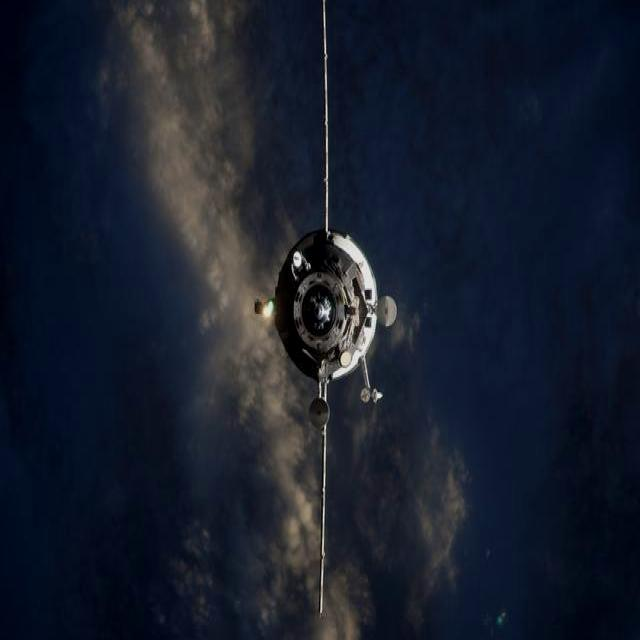medium_debris: (255, 0, 398, 613)
